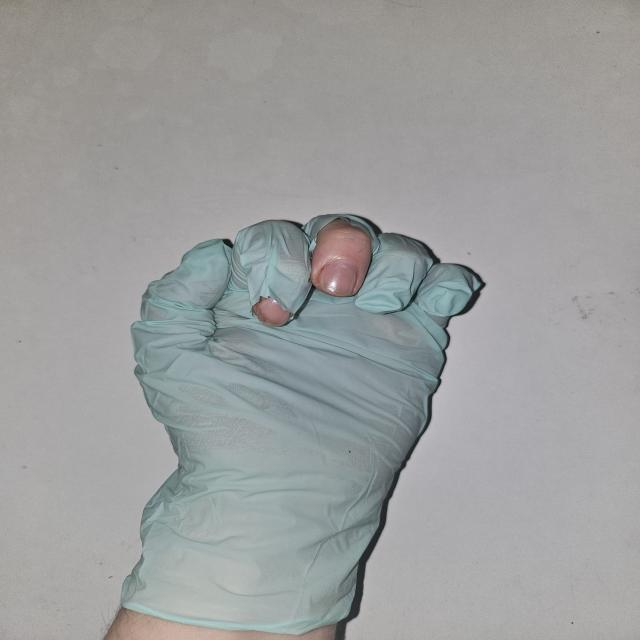gloves_damaged: (118, 213, 492, 632)
